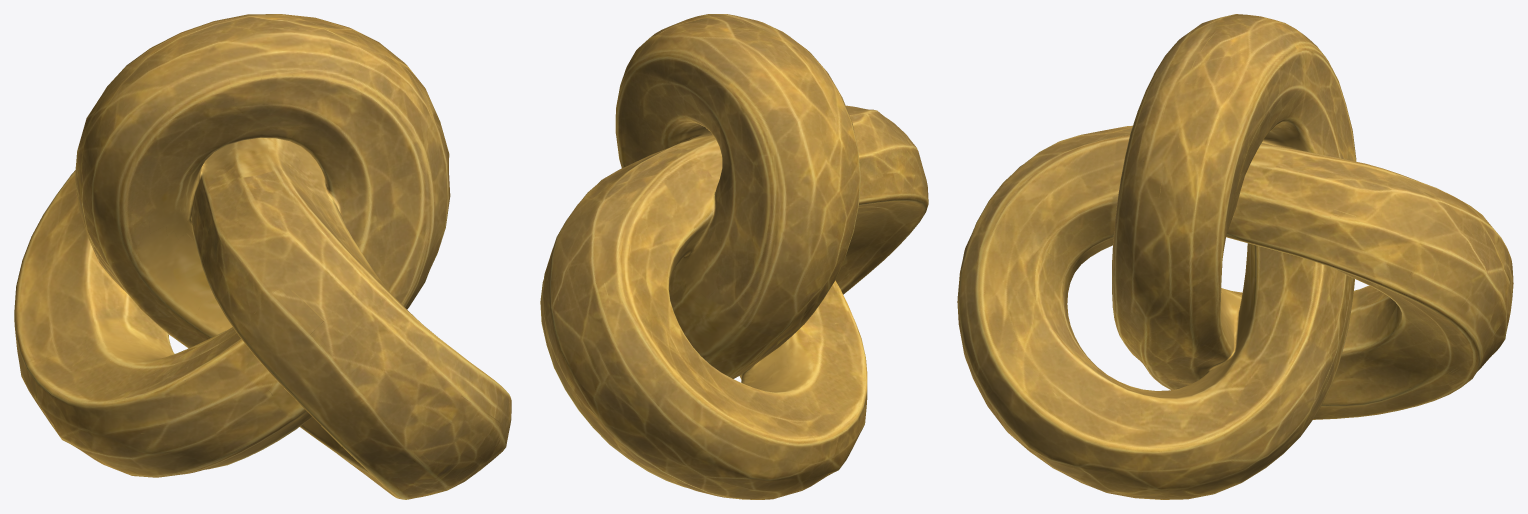
The model's file is bonus_special_MEDIUM_10k.fbx.
The picture shows the model from 3 angles, left to right: view 1: azimuth 30°, elevation 25°; view 2: azimuth 150°, elevation 25°; view 3: azimuth 270°, elevation 25°; orthographic projection. The views are drawn at different scales.
Visible parts, largest first — view 1: HIGH; view 2: HIGH; view 3: HIGH.
Boxes of the visible parts, <box> form: HIGH: <box>14,14,511,499</box>; HIGH: <box>540,14,928,499</box>; HIGH: <box>957,14,1513,499</box>.
Size of the model in its own units: 1.23 by 1.58 by 1.9.
Materials: 1 (1 with a texture image).
